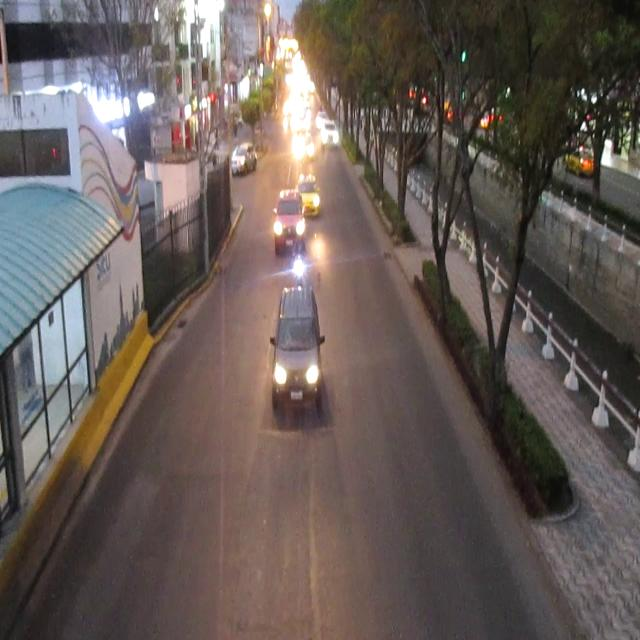SUV: (274, 289, 320, 410), (233, 147, 257, 176)
